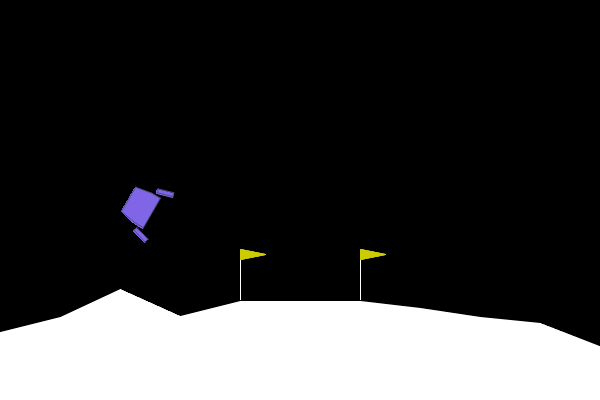lander: (111, 173, 176, 245)
